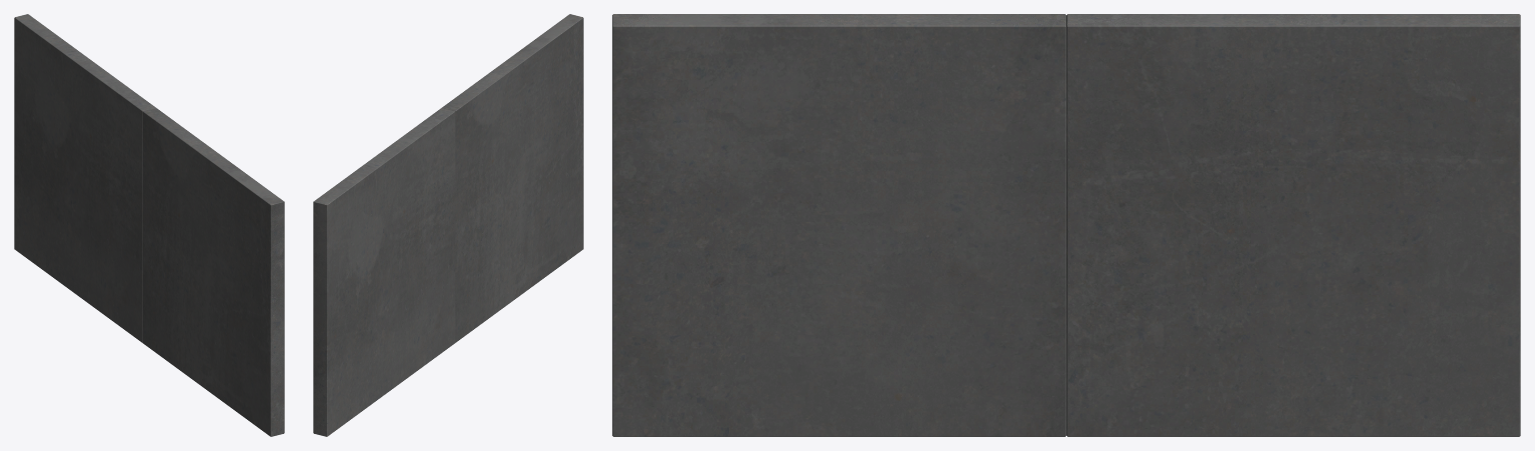
The model's file is cP_Pathway03_Small_Comb04.dae.
3 views of the same model, side by side, from view 1: azimuth 30°, elevation 25°; view 2: azimuth 150°, elevation 25°; view 3: azimuth 270°, elevation 25° (orthographic). The views are drawn at different scales.
Visible parts, largest first — view 1: cP_Pathway03_Small_Comb04.001; view 2: cP_Pathway03_Small_Comb04.001; view 3: cP_Pathway03_Small_Comb04.001.
Part boxes in pixels (x1,y1,x2,y2): cP_Pathway03_Small_Comb04.001: (14, 14, 284, 436); cP_Pathway03_Small_Comb04.001: (313, 14, 583, 436); cP_Pathway03_Small_Comb04.001: (612, 14, 1520, 436).
Bounding box in the file's own units: 0.0653 × 2 × 1.
